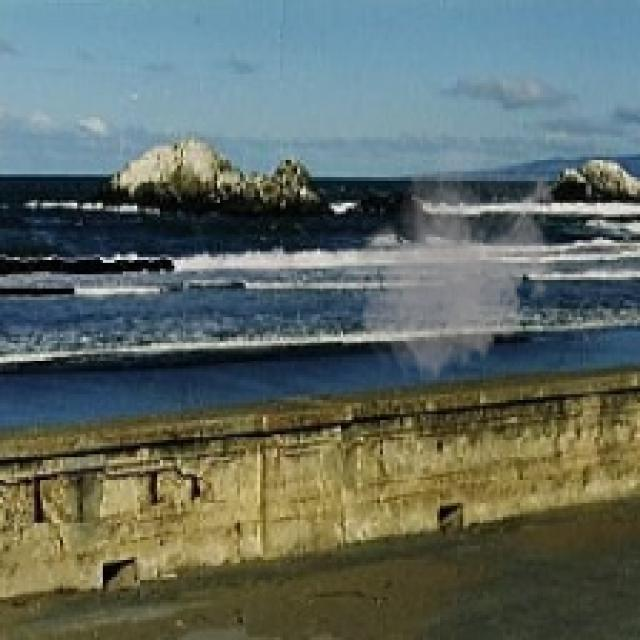Smoke: (340, 140, 560, 386)
